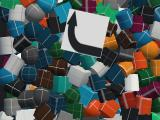Right: (60, 8, 110, 58)
